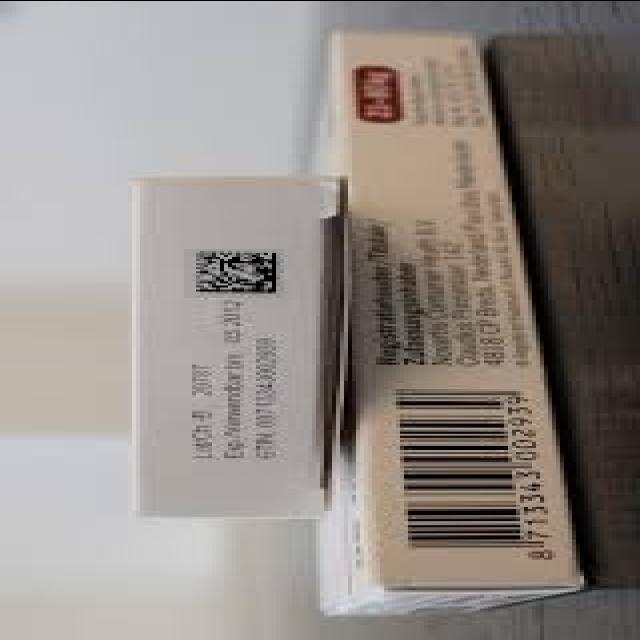Data-Matrix: (184, 248, 284, 297)
